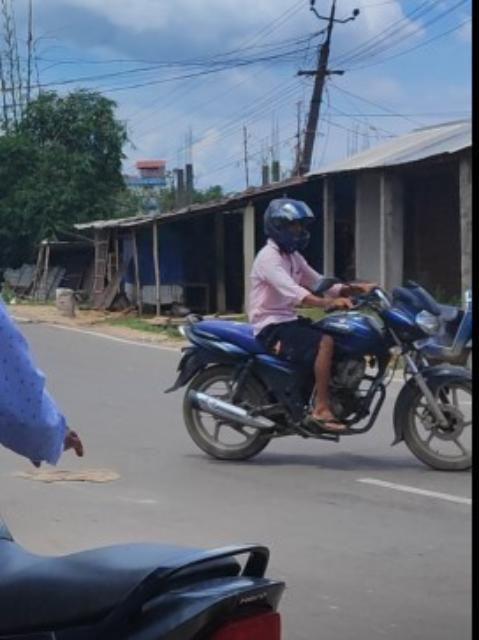motorcycle: (165, 198, 474, 470)
withHelmet: (266, 200, 317, 253)
